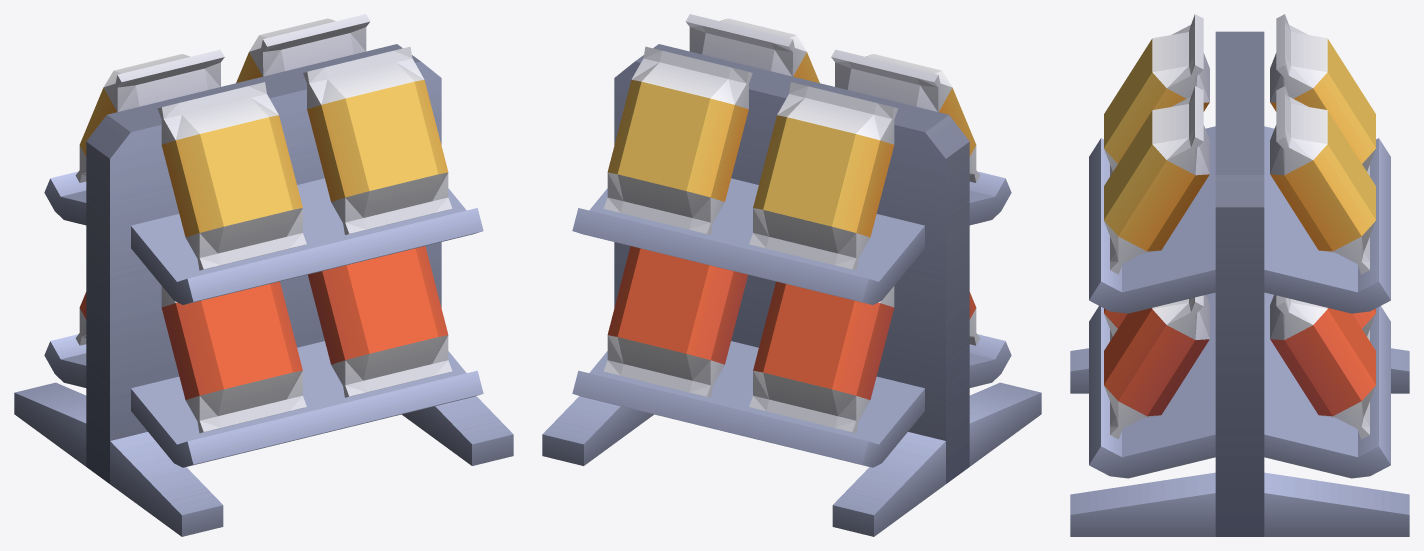
The model's file is ShopShelfBags.obj.
3 views of the same model, side by side, from view 1: azimuth 30°, elevation 25°; view 2: azimuth 150°, elevation 25°; view 3: azimuth 270°, elevation 25° (orthographic).
Visible parts, largest first — view 1: shelf_bags, bag_1, bag, bag_3, bag_2, bag_4, bag_5; view 2: shelf_bags, bag_4, bag_5, bag_6, bag_7, bag_1, bag; view 3: shelf_bags, bag_5, bag, bag_7, bag_2, bag_4, bag_1.
Part boxes in pixels (box(x1,y1,x2,y2)): shelf_bags: box(14, 44, 513, 536); bag_1: box(157, 82, 306, 270); bag: box(303, 46, 452, 234); bag_3: box(161, 281, 306, 433); bag_2: box(308, 246, 451, 397); bag_4: box(75, 49, 224, 182); bag_5: box(236, 14, 370, 82); shelf_bags: box(542, 44, 1041, 536); bag_4: box(749, 82, 898, 270); bag_5: box(603, 46, 752, 234); bag_6: box(749, 281, 894, 433); bag_7: box(604, 246, 747, 397); bag_1: box(831, 49, 980, 182); bag: box(685, 14, 819, 82); shelf_bags: box(1070, 31, 1409, 536); bag_5: box(1270, 86, 1375, 274); bag: box(1104, 86, 1209, 274); bag_7: box(1270, 295, 1375, 439); bag_2: box(1104, 295, 1209, 439); bag_4: box(1270, 14, 1375, 175); bag_1: box(1104, 14, 1209, 175).
Size of the model in its own units: 1.6 by 1.73 by 1.4.
1 material, 1 textured.
